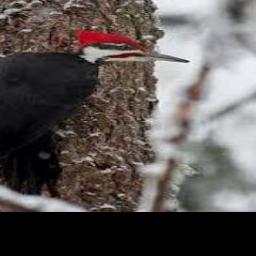Woodpecker: (0, 29, 189, 197)
